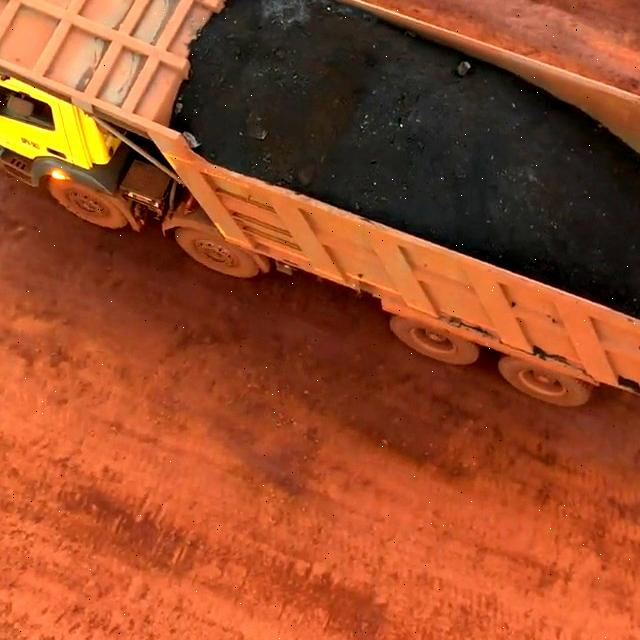Dumper truck: (0, 0, 339, 205)
